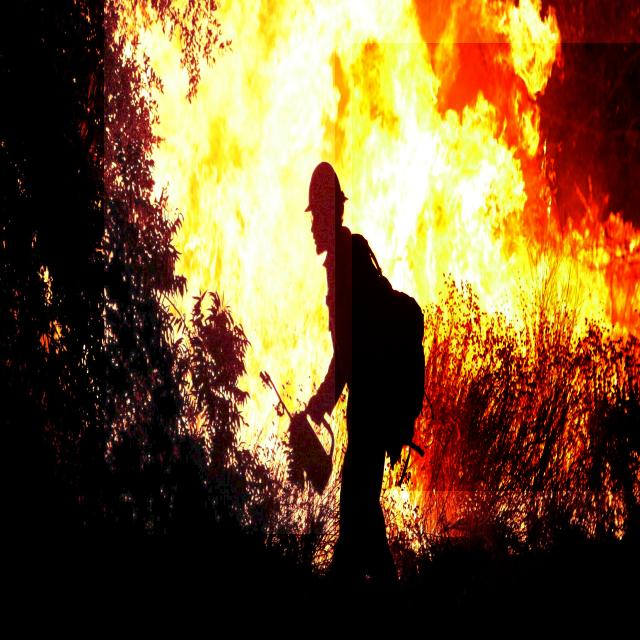Fire: (352, 43, 640, 491), (104, 0, 335, 534)
